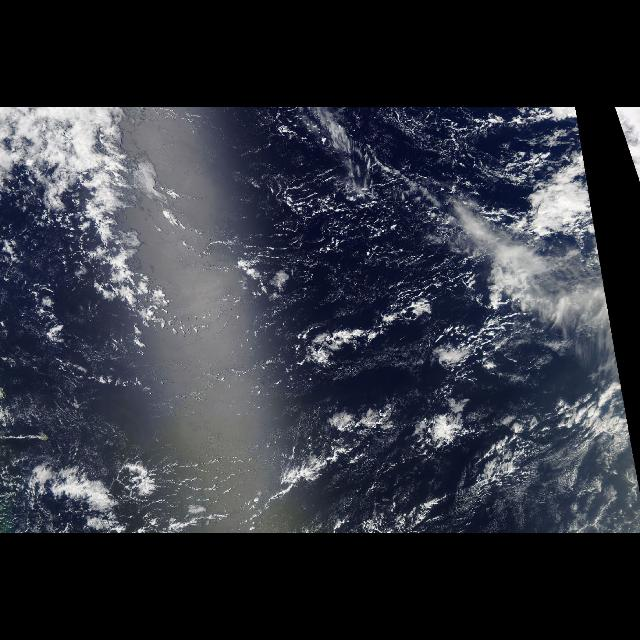Fish: (292, 297, 506, 373), (255, 438, 373, 506)
Gravel: (214, 107, 564, 409)
Sugar: (138, 126, 484, 292), (7, 393, 223, 533), (392, 413, 638, 533)
